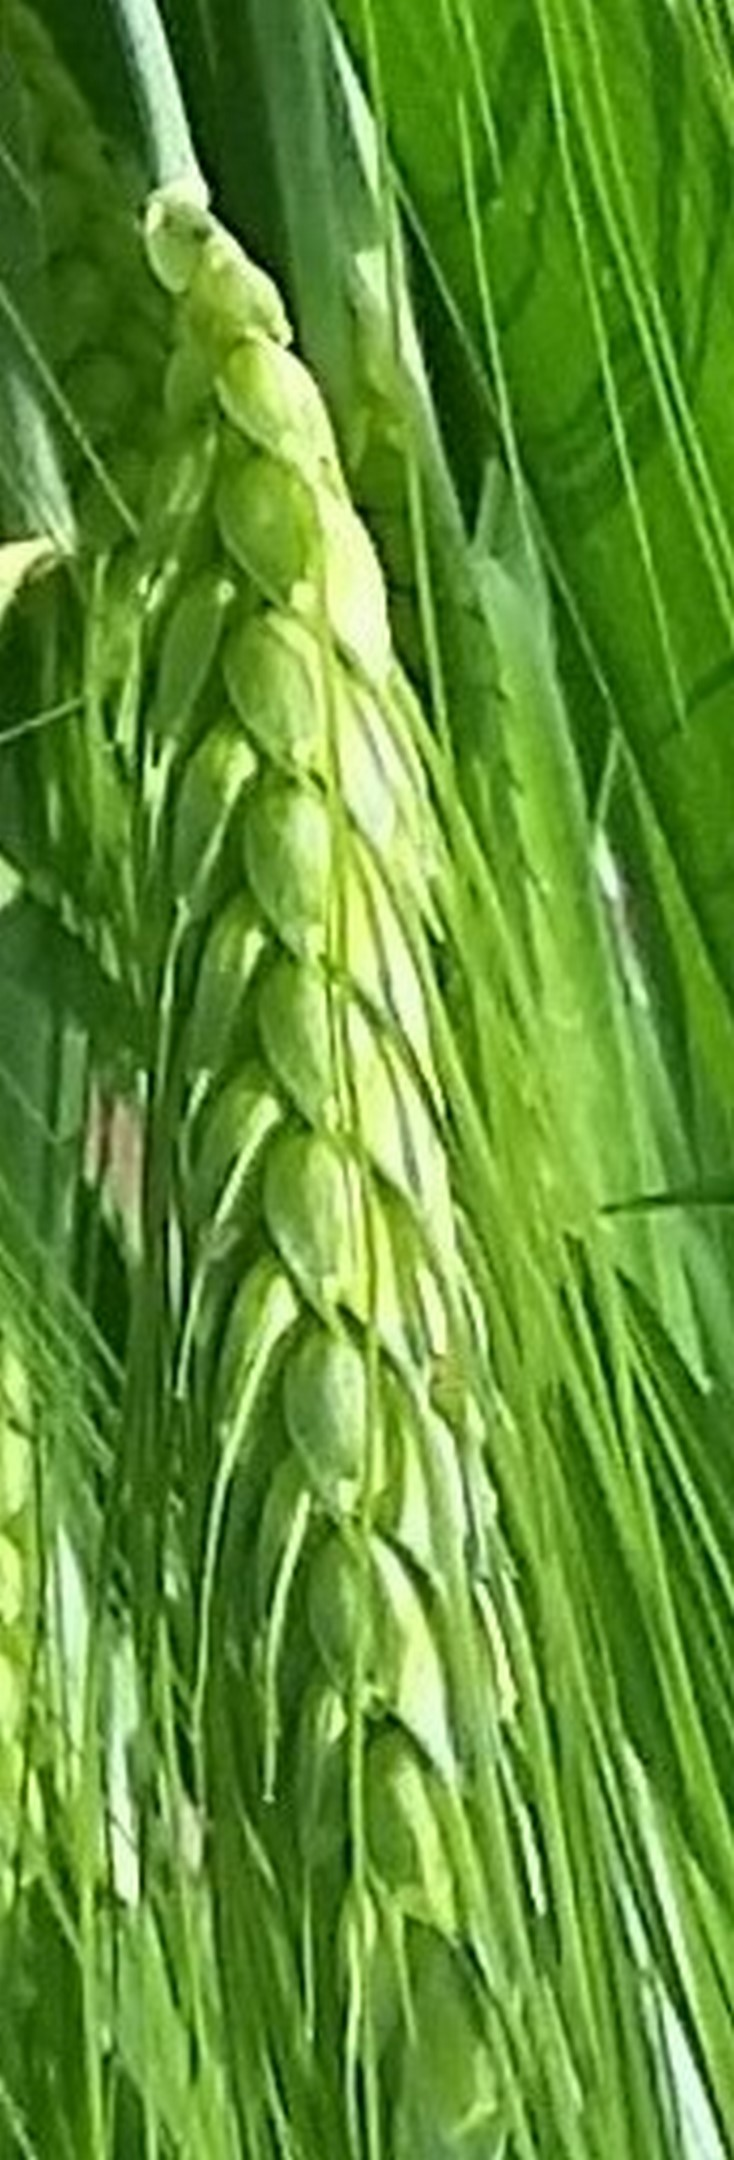Healthy Wheat: (116, 280, 570, 1834)
